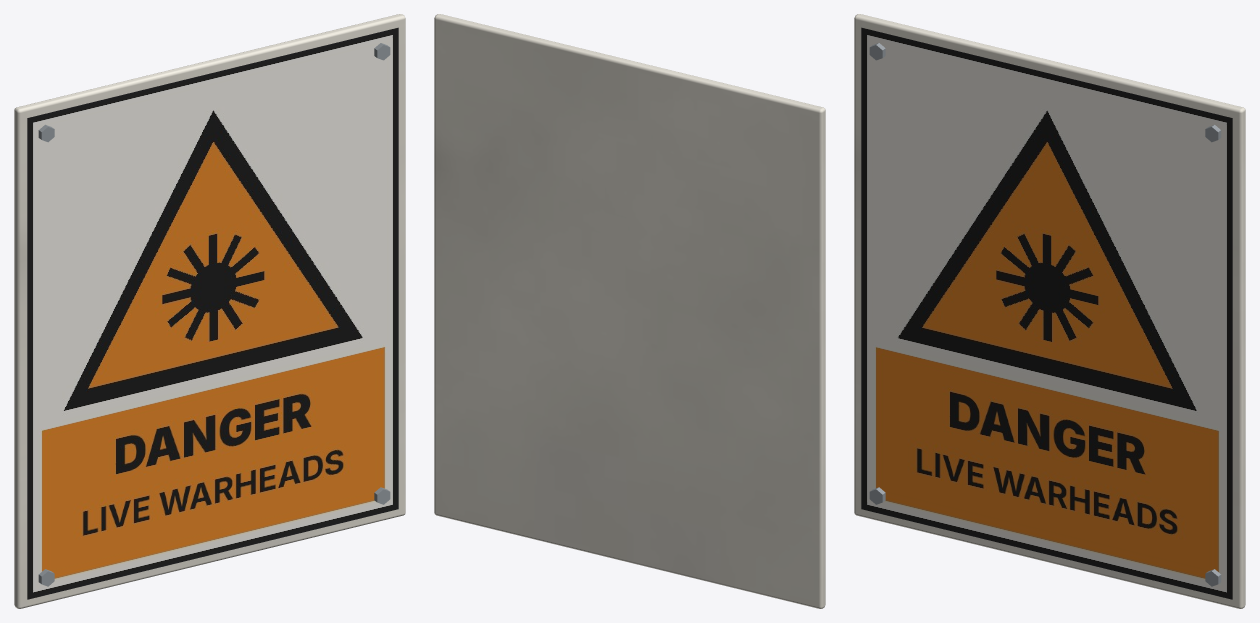
Rendered from Sign_Explosive.glb.
The picture shows the model from 3 angles, left to right: view 1: azimuth 30°, elevation 25°; view 2: azimuth 150°, elevation 25°; view 3: azimuth 330°, elevation 25°; orthographic projection.
Parts seen in each view (by area): view 1: Sign_Explosive_Body; view 2: Sign_Explosive_Body; view 3: Sign_Explosive_Body.
Part boxes in pixels (box(x1,y1,x2,y2)): Sign_Explosive_Body: box(14, 14, 405, 608); Sign_Explosive_Body: box(434, 14, 825, 608); Sign_Explosive_Body: box(854, 14, 1245, 608).
Size of the model in its own units: 0.262 by 0.322 by 0.01.
Materials: 3 (2 with a texture image).
